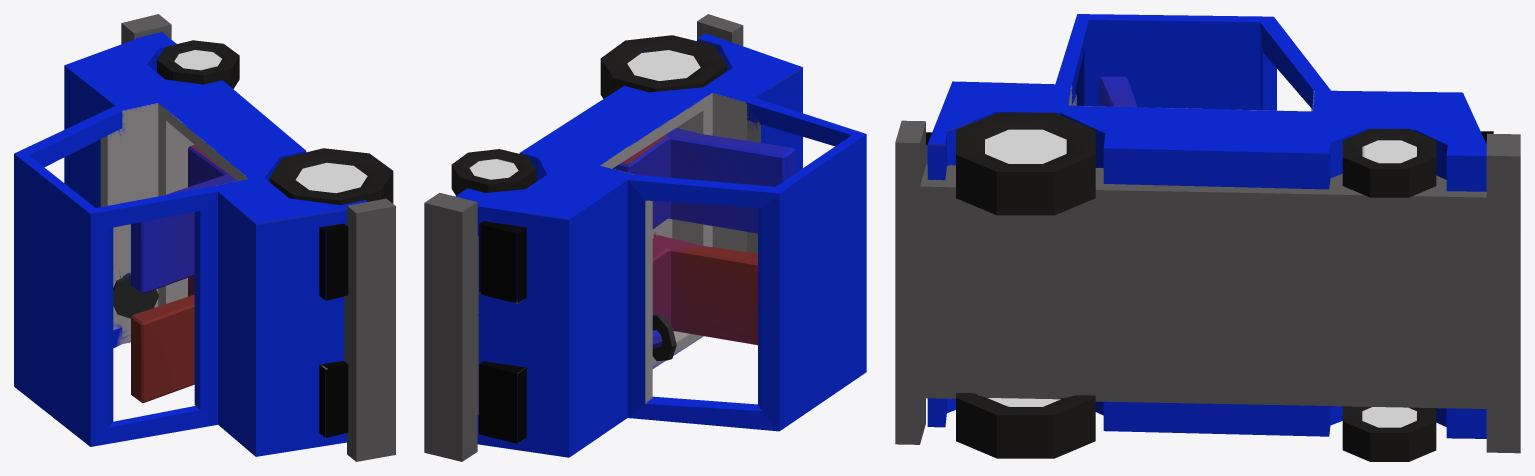
The picture shows the model from 3 angles, left to right: view 1: azimuth 30°, elevation 25°; view 2: azimuth 150°, elevation 25°; view 3: azimuth 270°, elevation 25°; orthographic projection. The views are drawn at different scales.
Parts seen in each view (by area): view 1: Golf car; view 2: Golf car; view 3: Golf car.
Part boxes in pixels (x1,y1,x2,y2): Golf car: [14, 14, 395, 461]; Golf car: [424, 14, 866, 461]; Golf car: [895, 14, 1520, 461].
Size of the model in its own units: 201 by 177 by 332.
